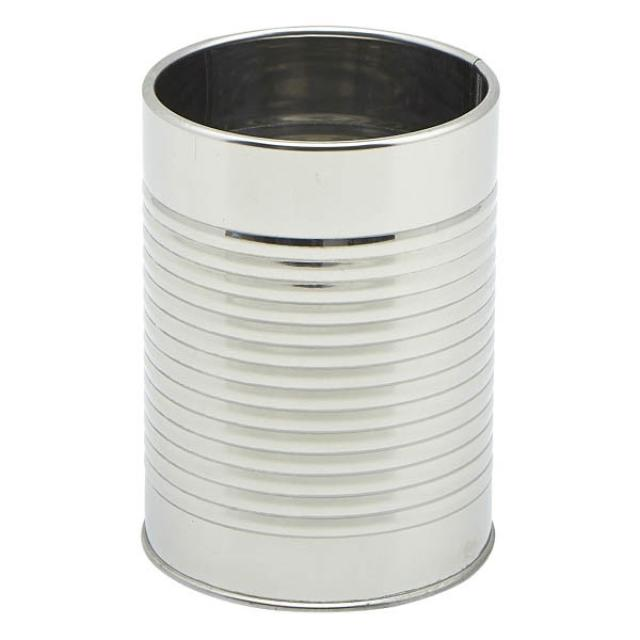metal: (118, 29, 525, 611)
